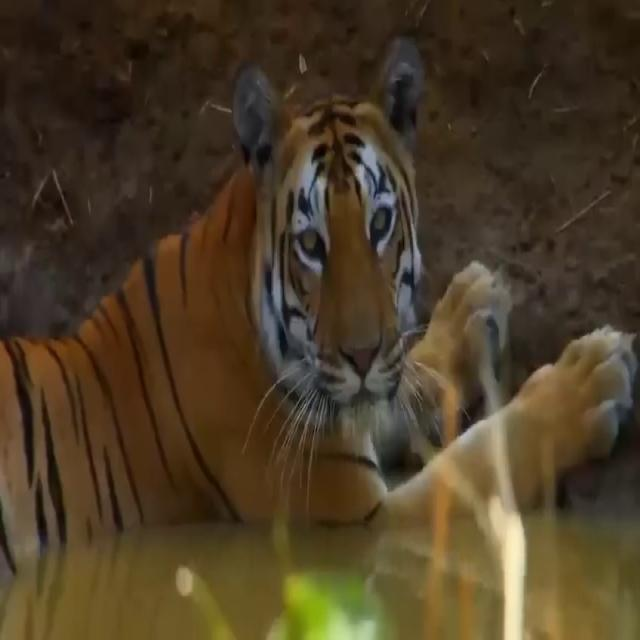tiger: (0, 34, 640, 574)
